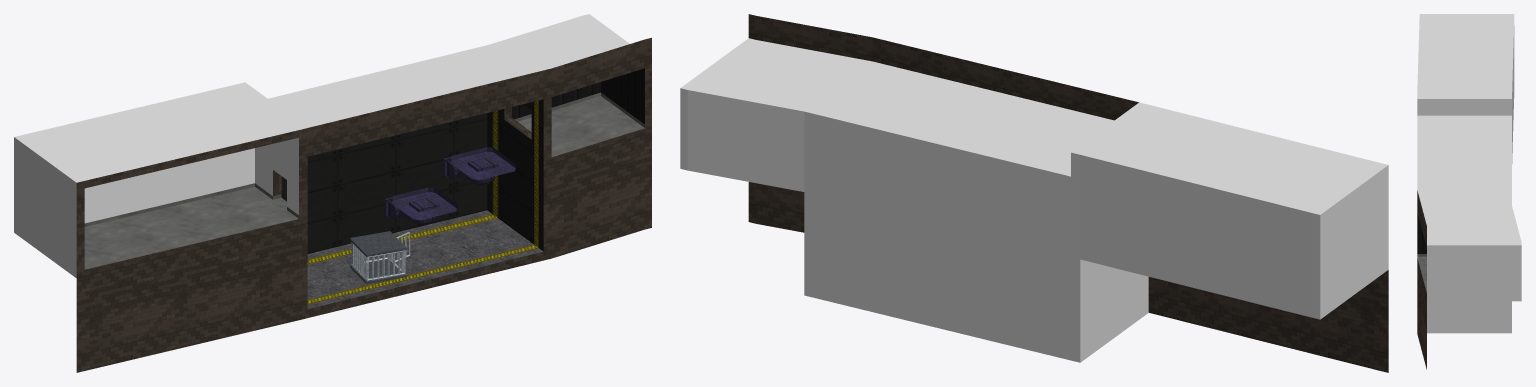
The model's file is laboratory_v1.glb.
3 views of the same model, side by side, from view 1: azimuth 30°, elevation 25°; view 2: azimuth 150°, elevation 25°; view 3: azimuth 270°, elevation 25° (orthographic). The views are drawn at different scales.
Parts seen in each view (by area): view 1: LaboratoryLayout, Platform2.001, Platform2, CageTopBottom, CageBars; view 2: LaboratoryLayout; view 3: LaboratoryLayout.
Part boxes in pixels (bbox=[...]): LaboratoryLayout: bbox=[14, 14, 651, 372]; Platform2.001: bbox=[384, 187, 457, 226]; Platform2: bbox=[443, 147, 515, 185]; CageTopBottom: bbox=[350, 231, 406, 283]; CageBars: bbox=[351, 232, 410, 281]; LaboratoryLayout: bbox=[680, 14, 1388, 372]; LaboratoryLayout: bbox=[1417, 14, 1521, 369].
Size of what is drawn, in the model's own units: 16.07 by 5.03 by 3.31.
16 materials, 12 textured.
